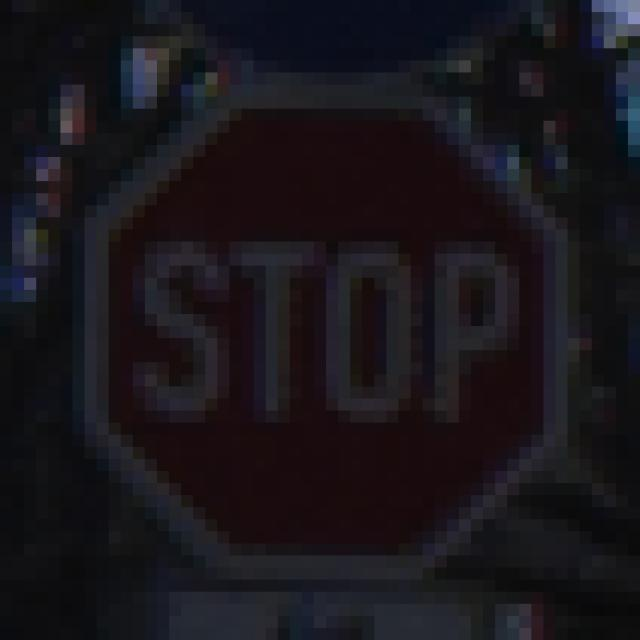STOP: (62, 62, 581, 581)
